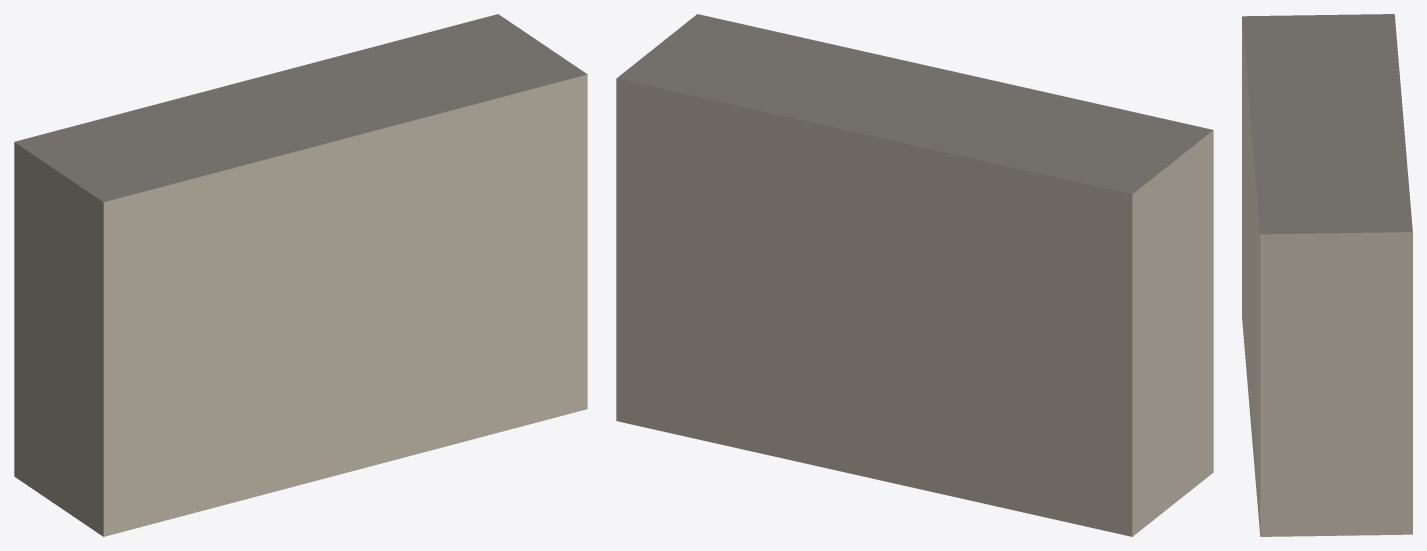
The picture shows the model from 3 angles, left to right: view 1: azimuth 30°, elevation 25°; view 2: azimuth 150°, elevation 25°; view 3: azimuth 270°, elevation 25°; orthographic projection. The views are drawn at different scales.
Visible parts, largest first — view 1: HP-w858807410; view 2: HP-w858807410; view 3: HP-w858807410.
Part boxes in pixels (x1,y1,x2,y2): HP-w858807410: (14,14,587,536); HP-w858807410: (616,14,1213,536); HP-w858807410: (1242,14,1412,536).
Bounding box in the file's own units: 28.11 × 18 × 9.2.
